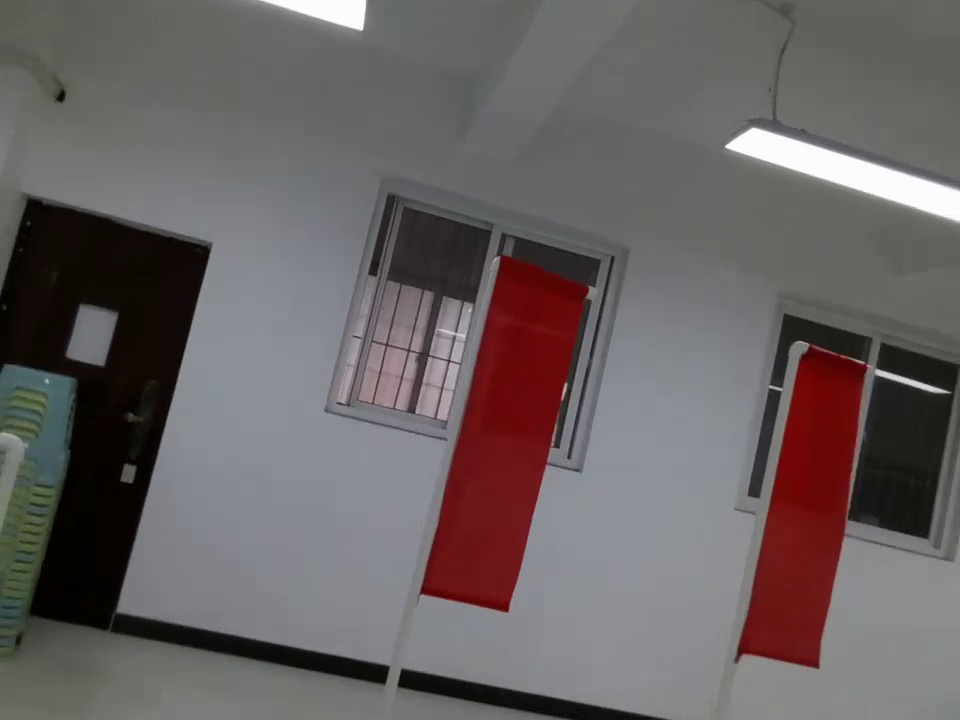qi: (406, 251, 599, 647), (731, 336, 878, 706)
